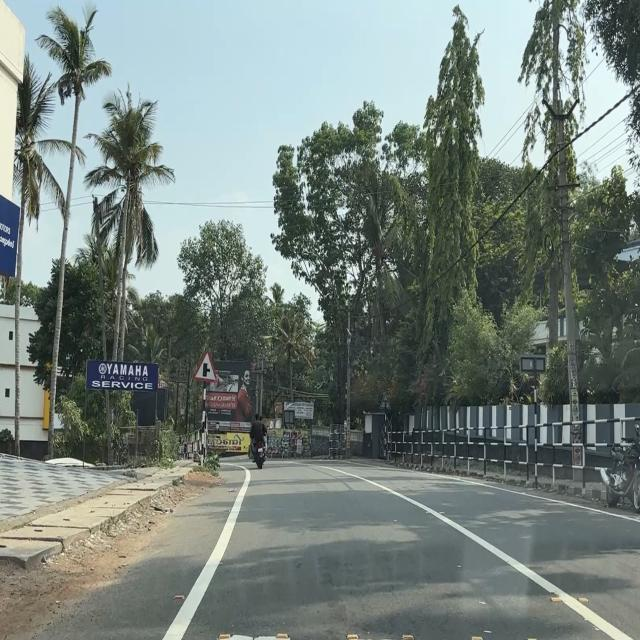SIDE_ROAD_RIGHT: (192, 349, 218, 383)
